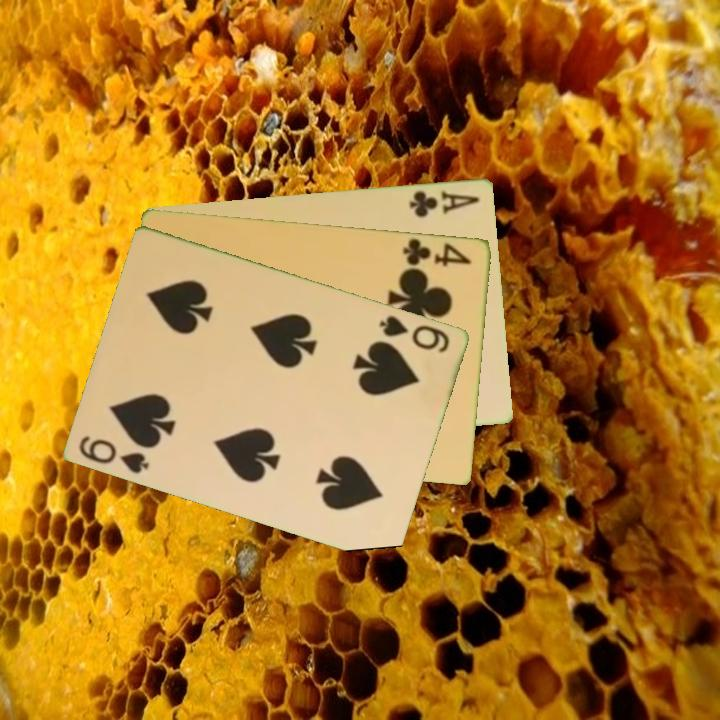4c: (400, 234, 474, 269)
6s: (376, 311, 453, 356), (75, 431, 152, 476)
Ac: (405, 186, 483, 219)
